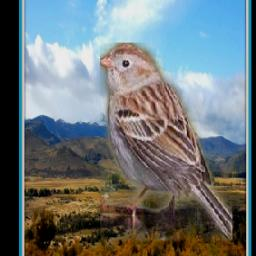Sparrow: (100, 44, 232, 242)
